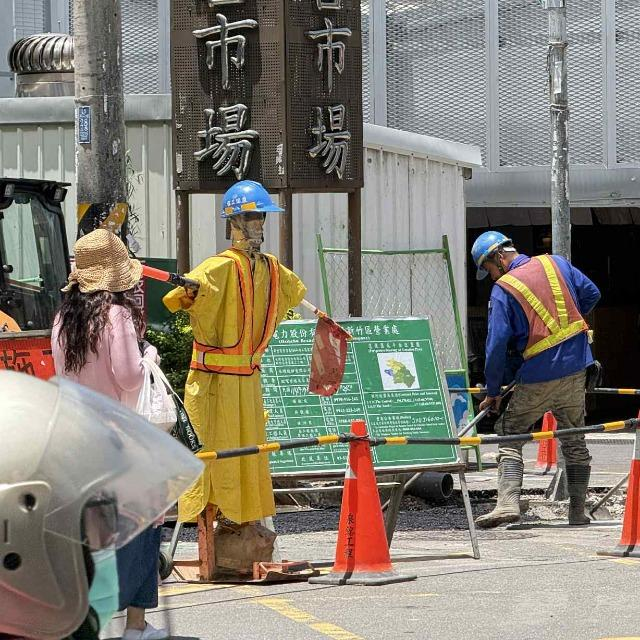Helmet: (468, 225, 522, 284)
NoHelmet: (61, 229, 148, 299)
